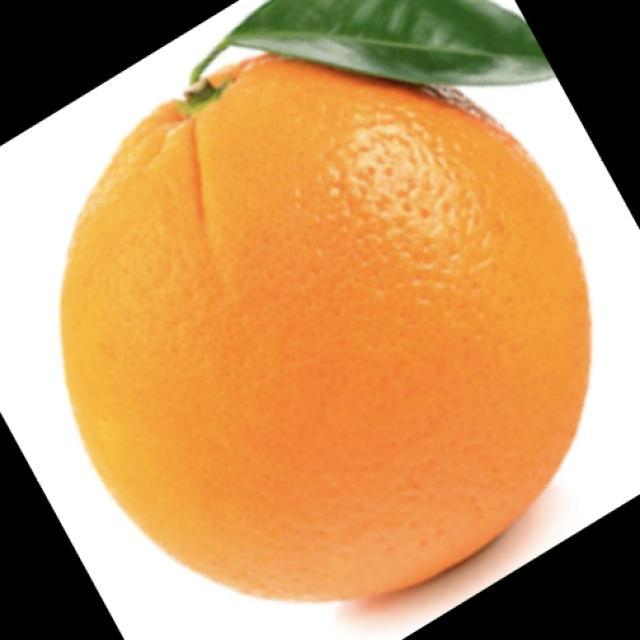matang: (61, 53, 591, 599)
